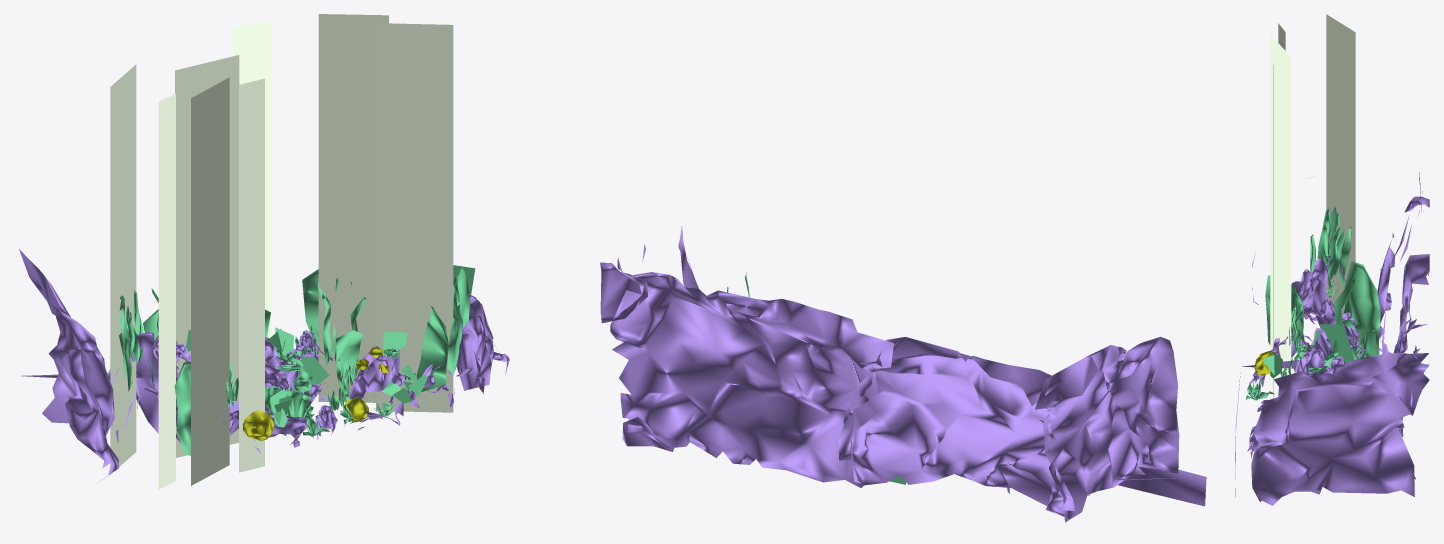
Rendered from fish_tank_b.glb.
3 renders of one model, left to right at view 1: azimuth 30°, elevation 25°; view 2: azimuth 150°, elevation 25°; view 3: azimuth 270°, elevation 25°, orthographic. The views are drawn at different scales.
Size of the model in its own units: 17.75 by 13.77 by 7.08.
